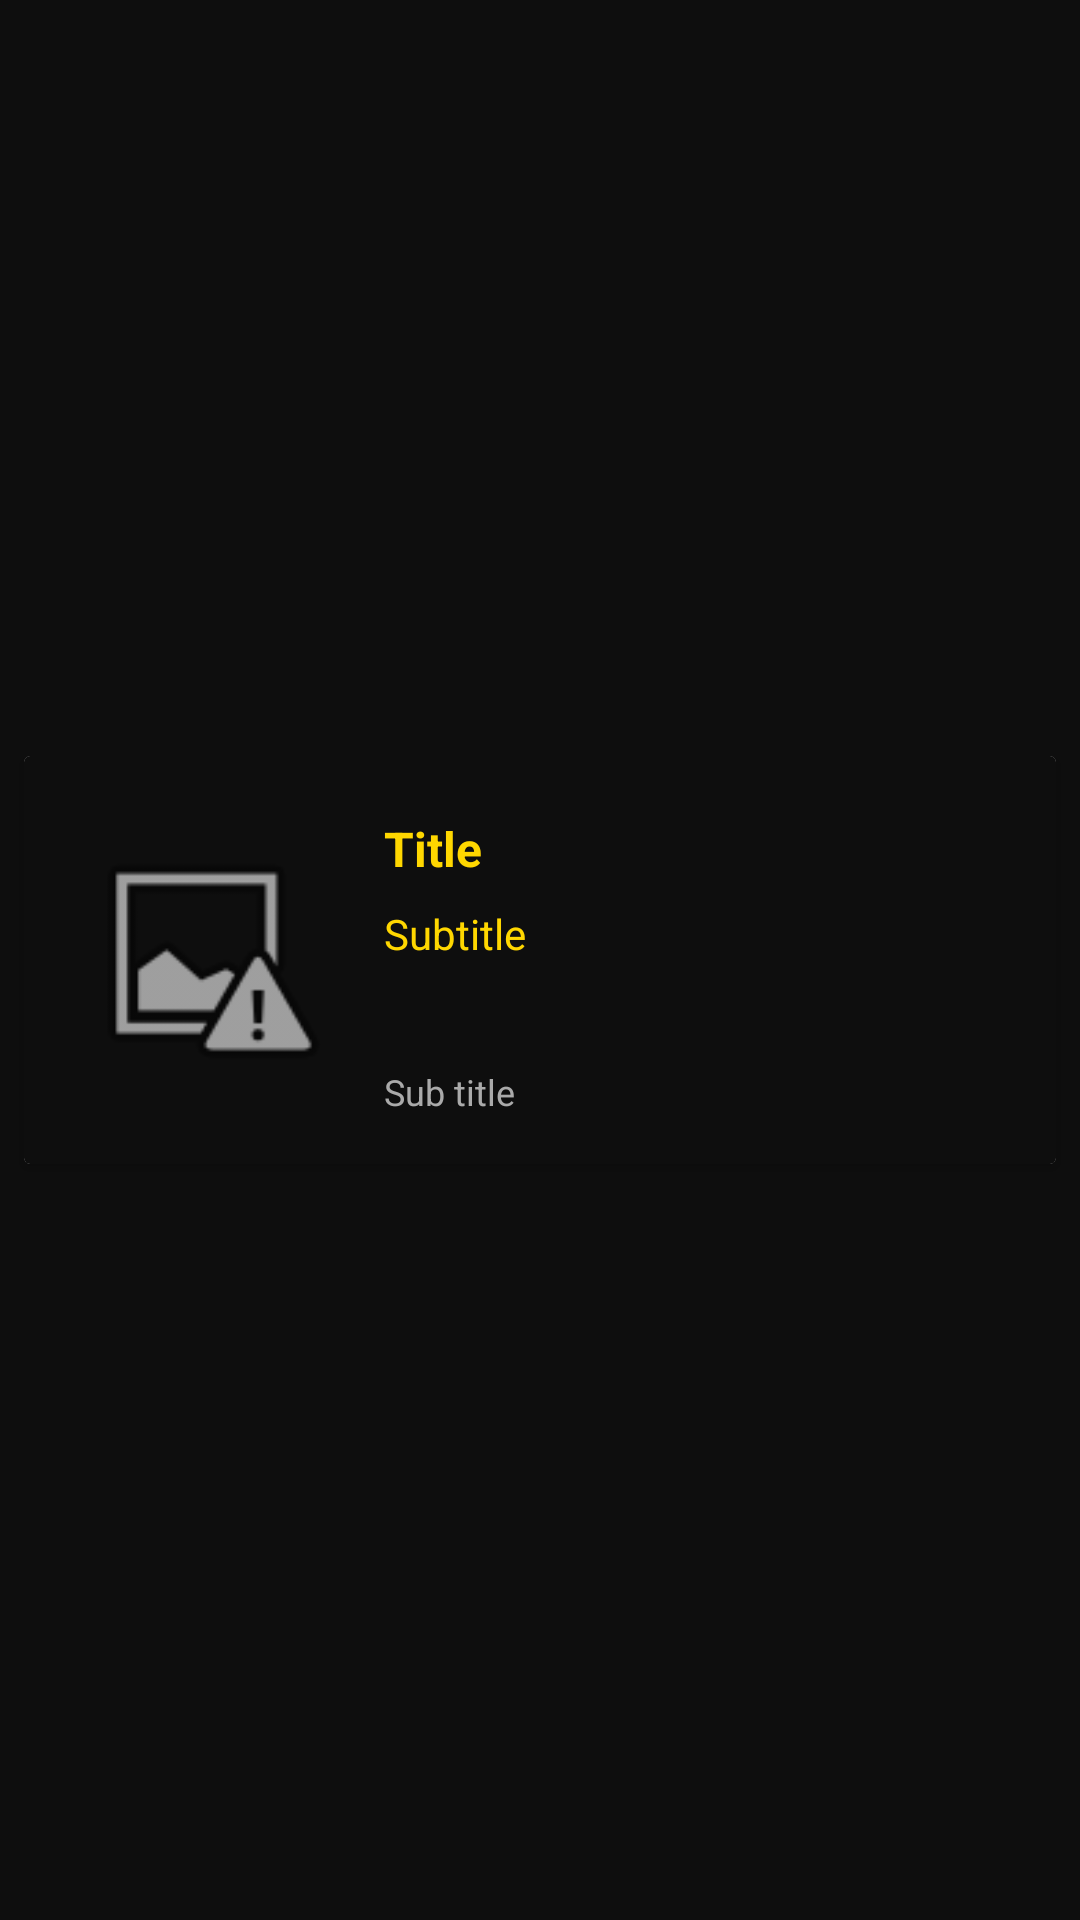

Icons on this 1080px x 1920px Android screen, each with the point to tap as (x,y):
report: (213,961)
